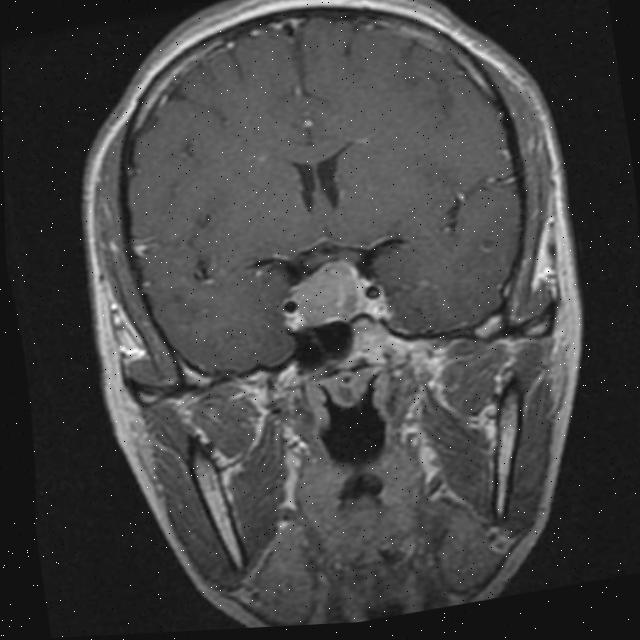Pituitary: (294, 255, 371, 332)
